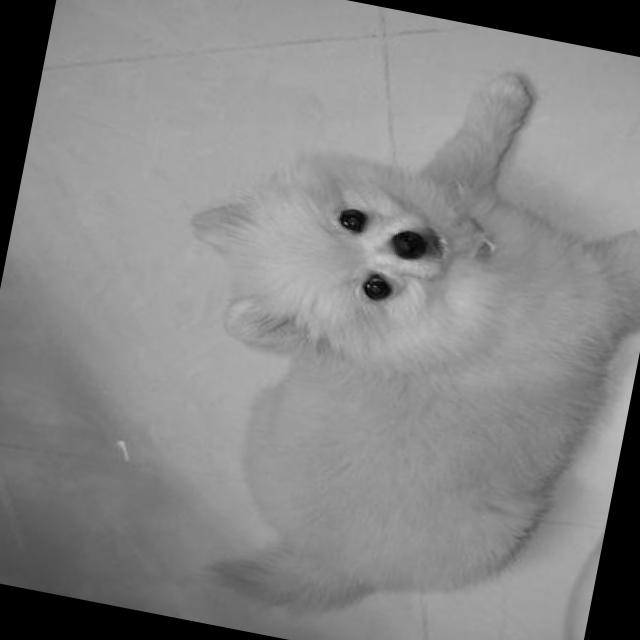laying down: (112, 11, 640, 640)
